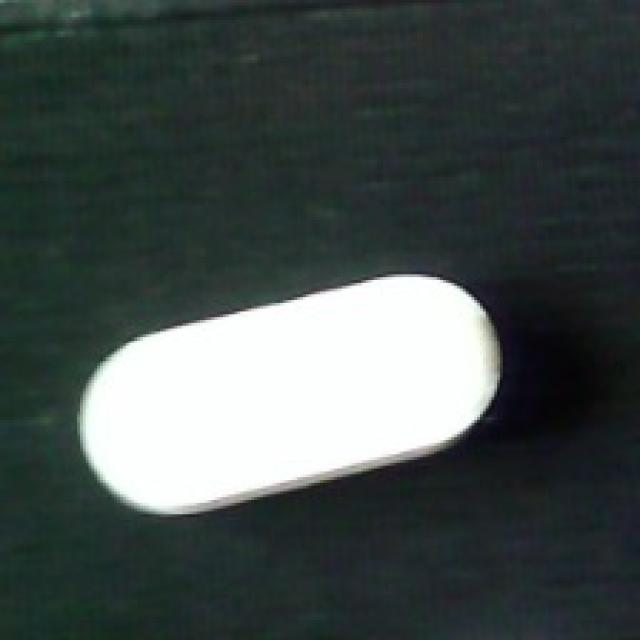no-defect: (71, 267, 503, 519)
